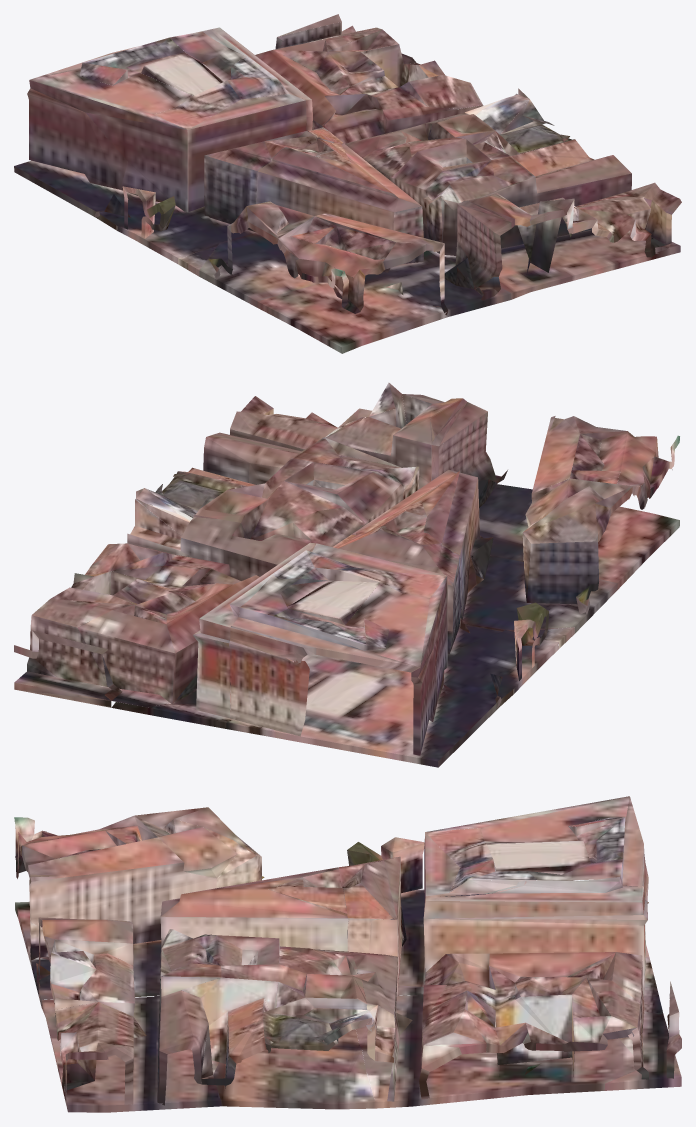
3 views of the same model, one above another, from view 1: azimuth 30°, elevation 25°; view 2: azimuth 150°, elevation 25°; view 3: azimuth 270°, elevation 25° (orthographic). The views are drawn at different scales.
Parts seen in each view (by area): view 1: Mesh_0; view 2: Mesh_0; view 3: Mesh_0.
Boxes of the visible parts, x1=… form: Mesh_0: x1=14, y1=14, x2=681, y2=353; Mesh_0: x1=14, y1=382, x2=679, y2=767; Mesh_0: x1=14, y1=796, x2=681, y2=1112.
Size of the model in its own units: 134 by 32.9 by 165.
2 materials, 2 textured.
